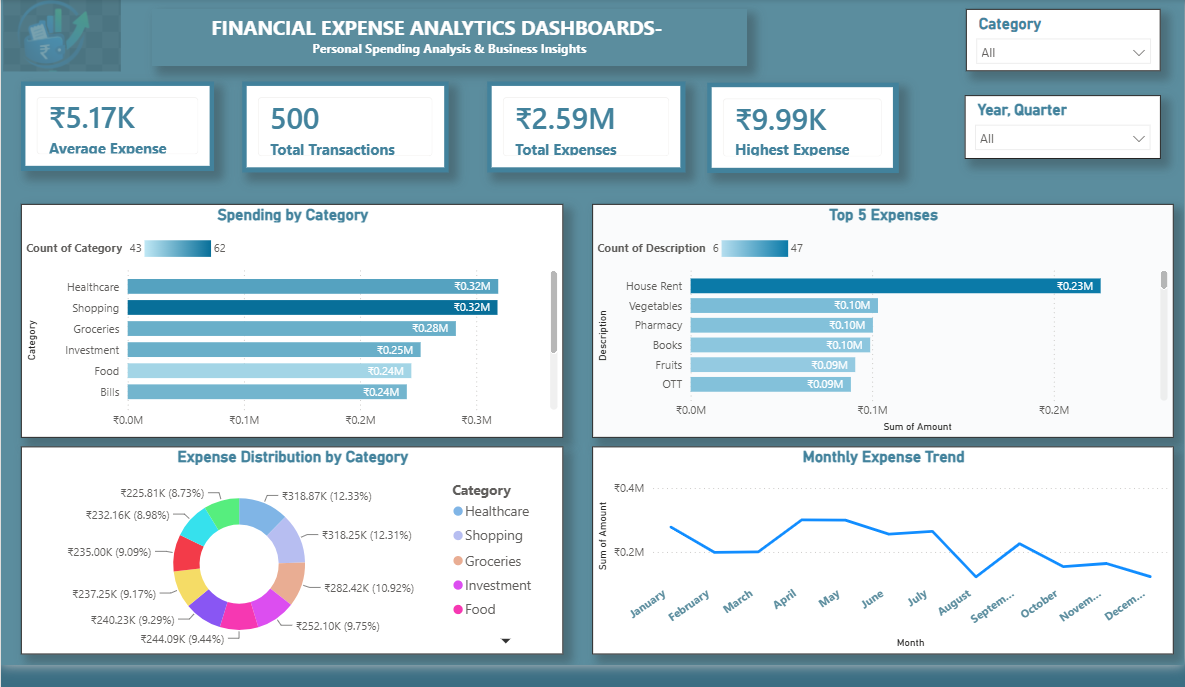

The page's visual inventory and layout, read from the dashboard file:
{"tool":"powerbi","page":{"name":"Page 1","canvas":[1280,720],"ordinal":0},"visuals":[{"type":"cardVisual","fields":{"Data":["Sum(expenses_500.Amount)"]},"box":[526.3,89.8,214.7,98.2],"z":0},{"type":"cardVisual","fields":{"Data":["CountNonNull(expenses_500.Amount)"]},"box":[261.1,89.8,223.2,98.2],"z":1000},{"type":"cardVisual","fields":{"Data":["Avg(expenses_500.Amount)"]},"box":[21.1,89.8,209.1,96.8],"z":2000},{"type":"cardVisual","fields":{"Data":["Max(expenses_500.Amount)"]},"box":[763.8,90.6,206.8,97.3],"z":3000},{"type":"clusteredBarChart","title":"Spending by Category","fields":{"Category":["expenses_500.Category"],"Y":["Sum(expenses_500.Amount)"]},"box":[21.1,221.8,586.7,252.6],"z":4000},{"type":"donutChart","title":"Expense Distribution by Category","fields":{"Category":["expenses_500.Category"],"Y":["Sum(expenses_500.Amount)"]},"box":[21.1,484.2,586.7,224.6],"z":5000},{"type":"clusteredBarChart","title":"Top 5 Expenses","fields":{"Category":["expenses_500.Description"],"Y":["Sum(expenses_500.Amount)"]},"box":[640,221.8,628.8,252.6],"z":6000},{"type":"textbox","box":[163.6,10.8,642.8,61.8],"z":7000},{"type":"lineChart","title":"Monthly Expense Trend","fields":{"Y":["Sum(expenses_500.Amount)"],"Category":["expenses_500.Date.Variation.Date Hierarchy.Month"]},"box":[640,484.2,628.8,224.6],"z":8000},{"type":"slicer","fields":{"Values":["expenses_500.Category"]},"box":[1044.2,11.2,210.5,67.4],"z":9000},{"type":"slicer","fields":{"Values":["expenses_500.Date.Variation.Date Hierarchy.Year","expenses_500.Date.Variation.Date Hierarchy.Quarter"]},"box":[1042.8,103.9,211.9,68.8],"z":10000},{"type":"image","box":[0,0,132.5,78.4],"z":11000}]}

Visuals, with their boxes in screenshot pixels (x1, y1, x2, y2), scaled from the page's 1280x720 canvas onto the 1185x687 screenshot:
cardVisual - Sum(expenses_500.Amount): <region>487, 86, 686, 179</region>
cardVisual - CountNonNull(expenses_500.Amount): <region>242, 86, 448, 179</region>
cardVisual - Avg(expenses_500.Amount): <region>20, 86, 213, 178</region>
cardVisual - Max(expenses_500.Amount): <region>707, 86, 899, 179</region>
"Spending by Category" clusteredBarChart: <region>20, 212, 563, 453</region>
"Expense Distribution by Category" donutChart: <region>20, 462, 563, 676</region>
"Top 5 Expenses" clusteredBarChart: <region>592, 212, 1175, 453</region>
textbox: <region>151, 10, 747, 69</region>
"Monthly Expense Trend" lineChart: <region>592, 462, 1175, 676</region>
slicer - expenses_500.Category: <region>967, 11, 1162, 75</region>
slicer - expenses_500.Date.Variation.Date Hierarchy.Year x expenses_500.Date.Variation.Date Hierarchy.Quarter: <region>965, 99, 1162, 165</region>
image: <region>0, 0, 123, 75</region>
